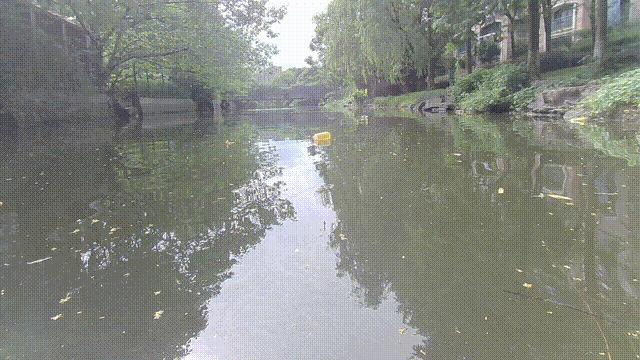Plastic: (310, 132, 331, 142), (569, 116, 587, 125), (454, 109, 464, 116), (360, 115, 370, 119)
